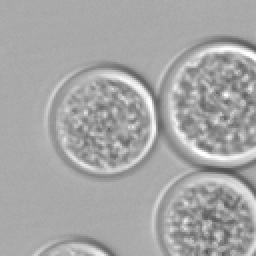picoshell: (158, 38, 254, 168), (46, 64, 156, 176), (152, 170, 254, 254), (32, 236, 112, 254)
